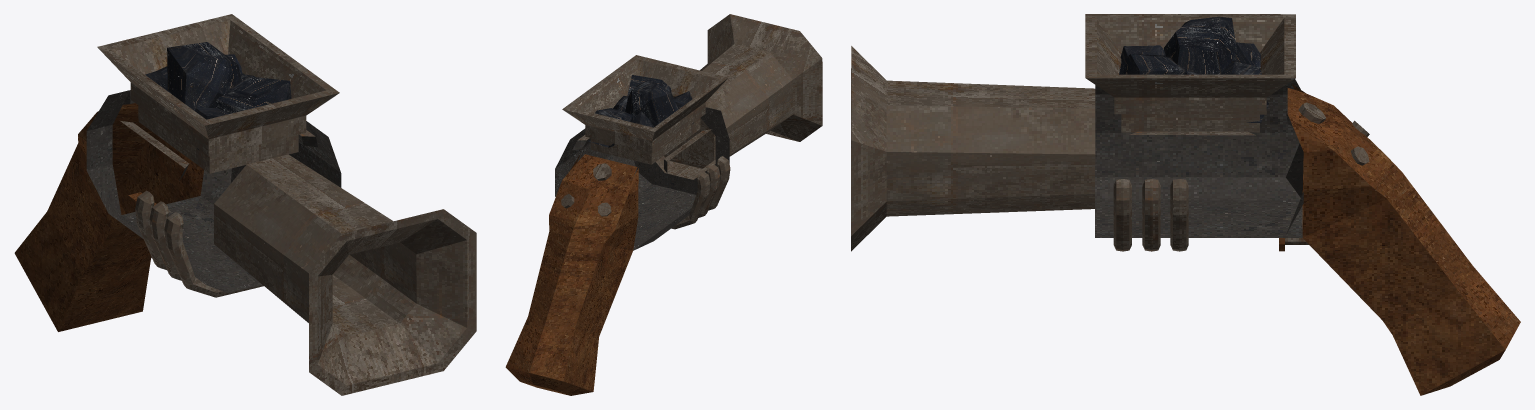
File: Handcannon.gltf
3 views of the same model, side by side, from view 1: azimuth 30°, elevation 25°; view 2: azimuth 150°, elevation 25°; view 3: azimuth 270°, elevation 25° (orthographic). The views are drawn at different scales.
Parts seen in each view (by area): view 1: Cube.006; view 2: Cube.006; view 3: Cube.006.
Boxes of the visible parts, x1=… form: Cube.006: x1=14, y1=14, x2=476, y2=395; Cube.006: x1=505, y1=14, x2=822, y2=395; Cube.006: x1=851, y1=14, x2=1520, y2=395.
Size of the model in its own units: 0.1279 by 0.2519 by 0.4392.
Materials: 4 (4 with a texture image).
